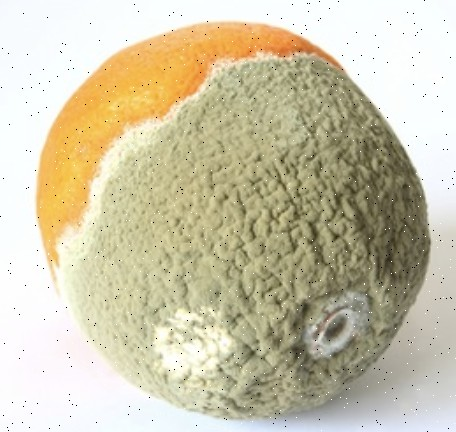rotten_orange: (36, 20, 431, 419)
